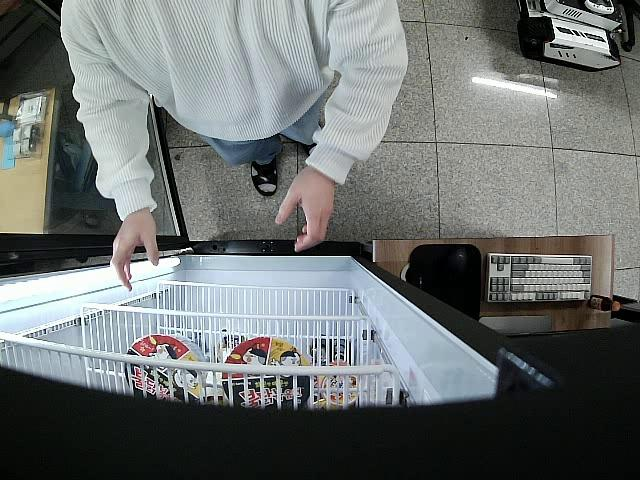00_hand: (274, 167, 337, 253), (107, 217, 162, 291)
